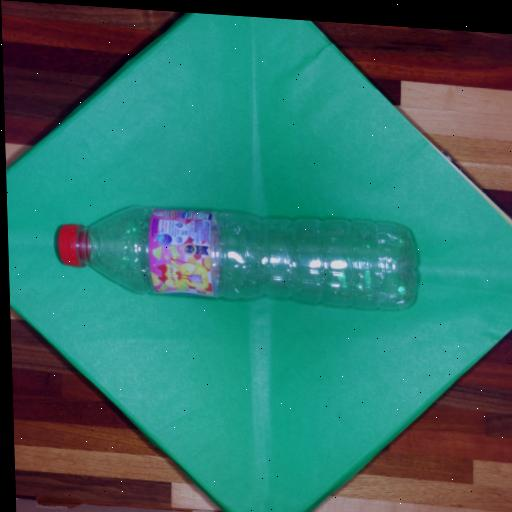bottle: (57, 208, 416, 309)
